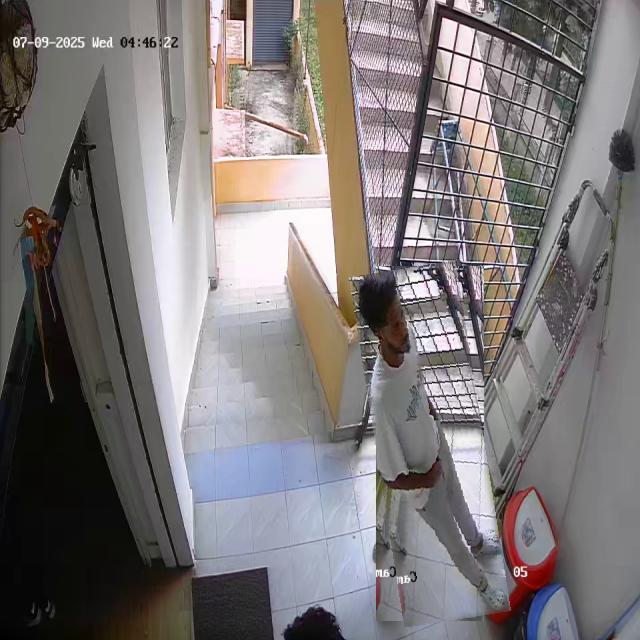person: (362, 263, 498, 624)
